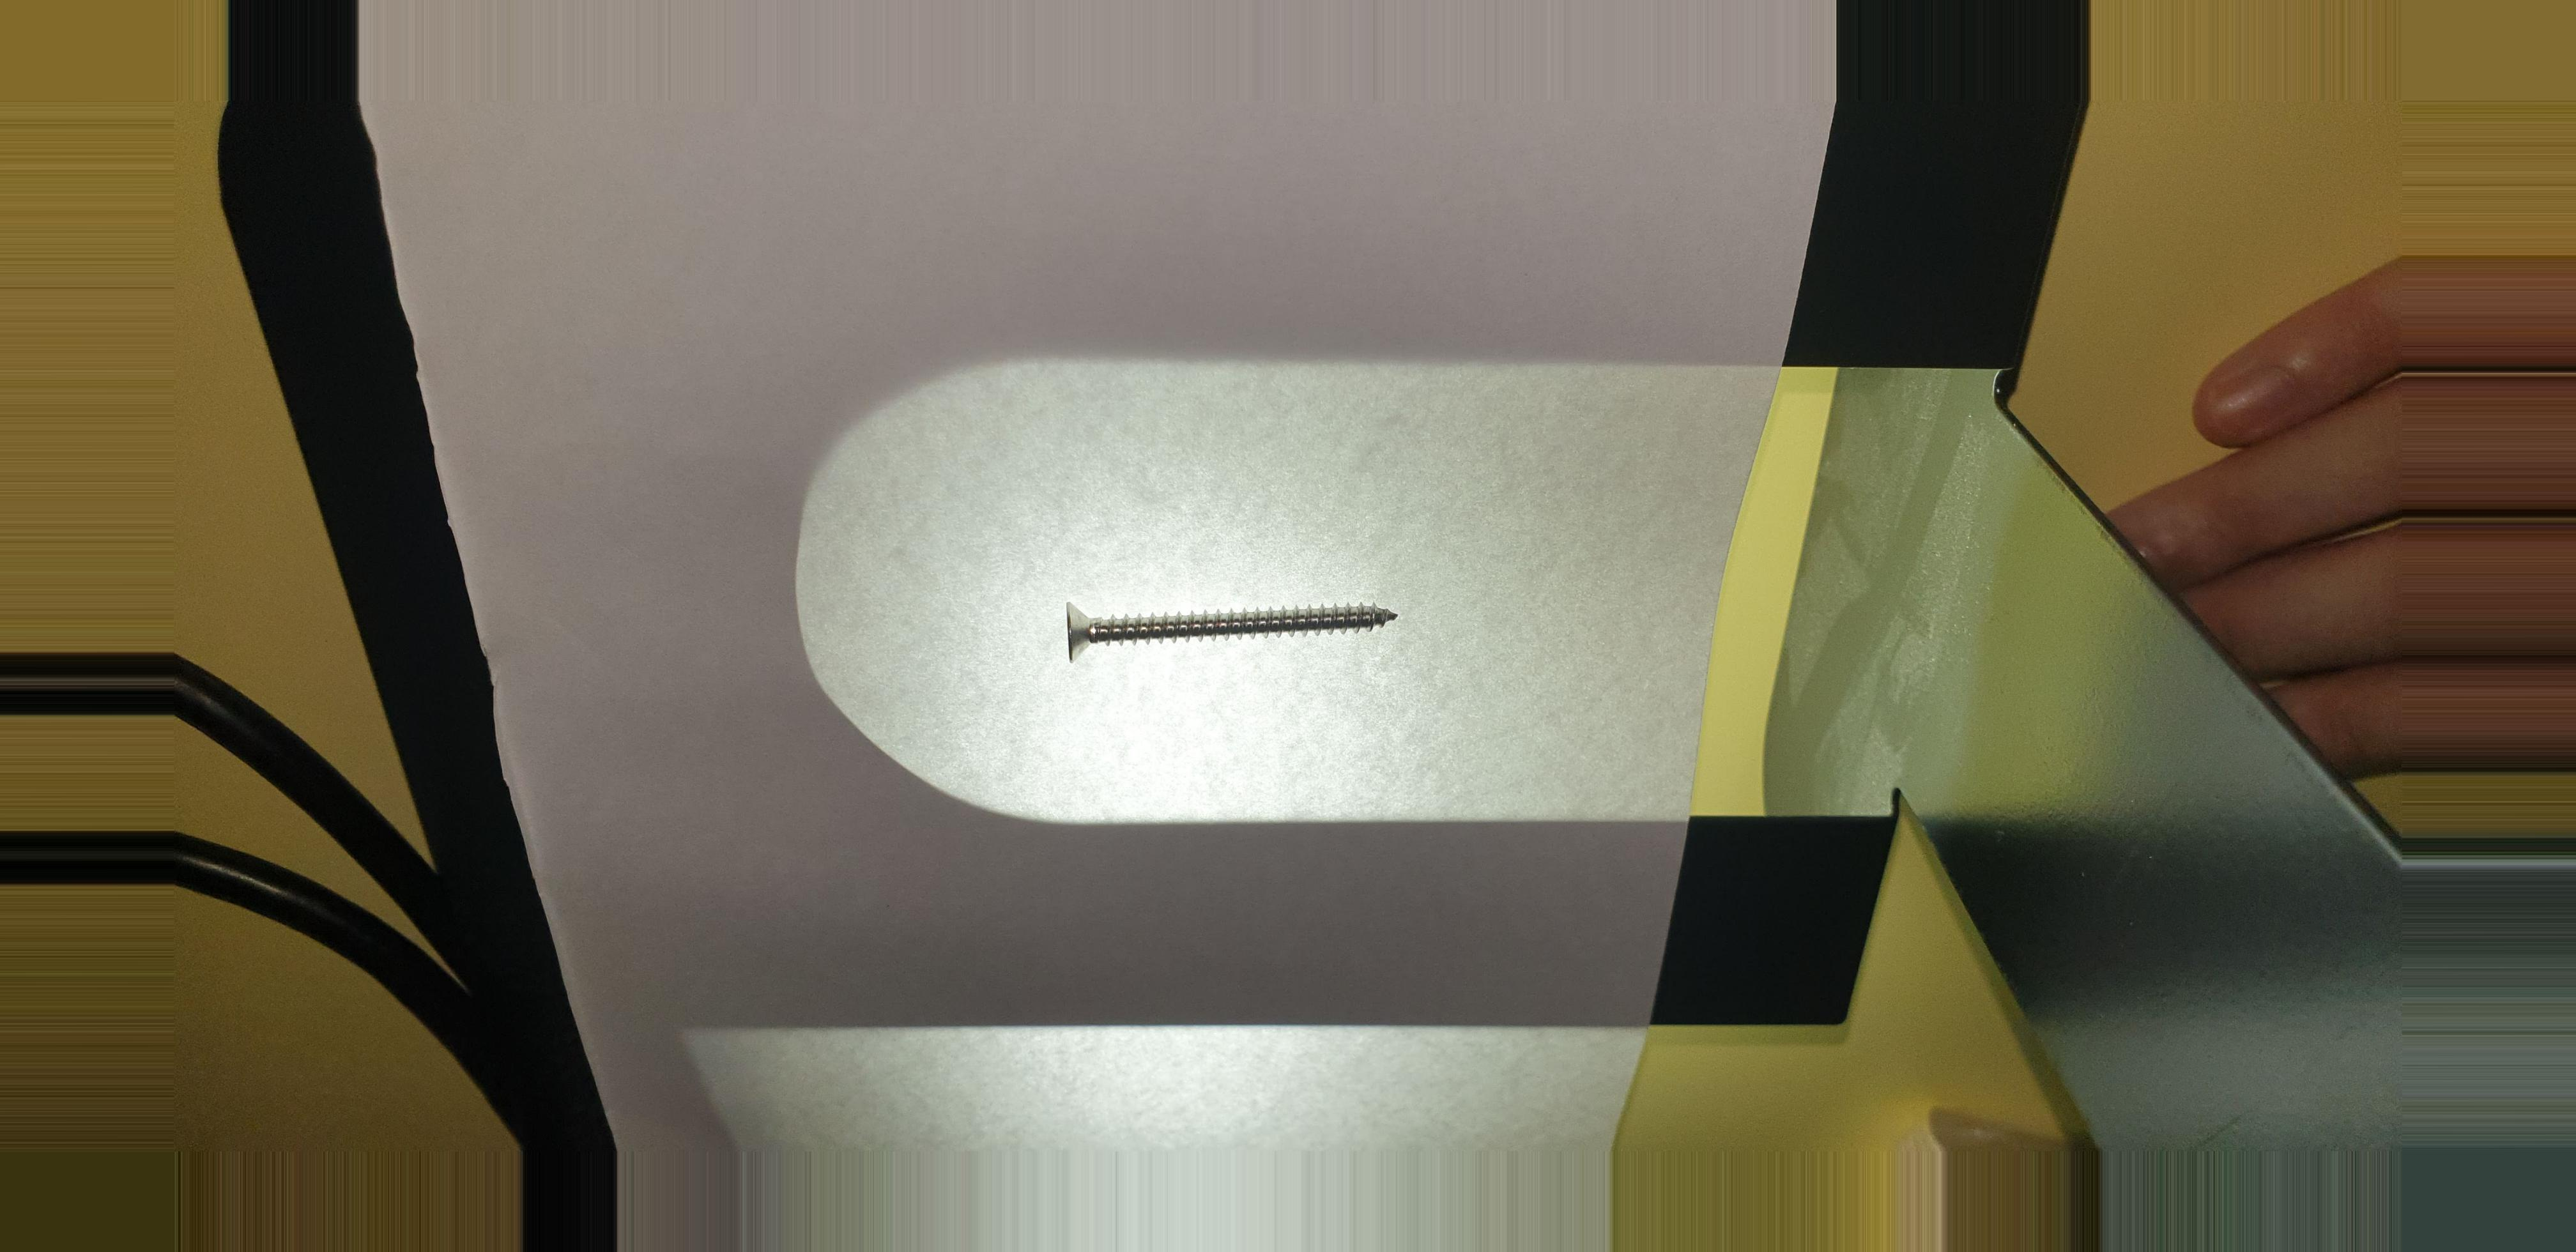fastener: (1045, 593, 1418, 661)
